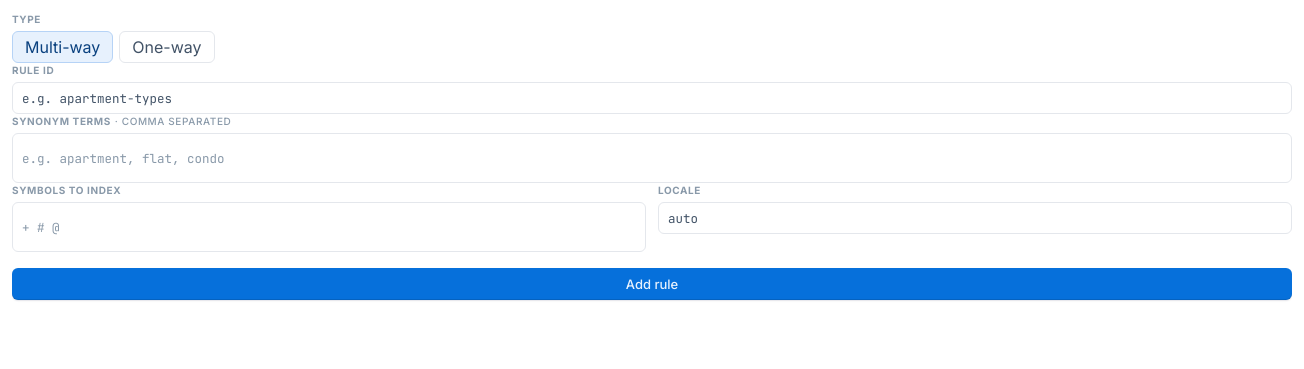
Test case: SynonymsForm › reveals the Root field only when the one-way type is selected
Expected: the text "Rule ID" is shown, [12,64,54,76]
Expected: the text "Root" is not shown
Click the button "One-way" at (167, 47), box [119,31,214,63]
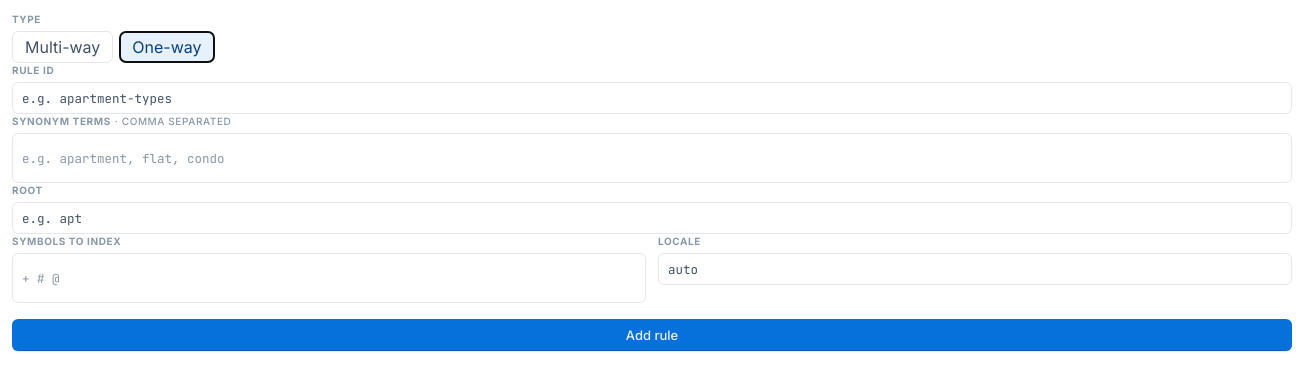
Now the text "Root" is shown, box [12,184,43,196]
